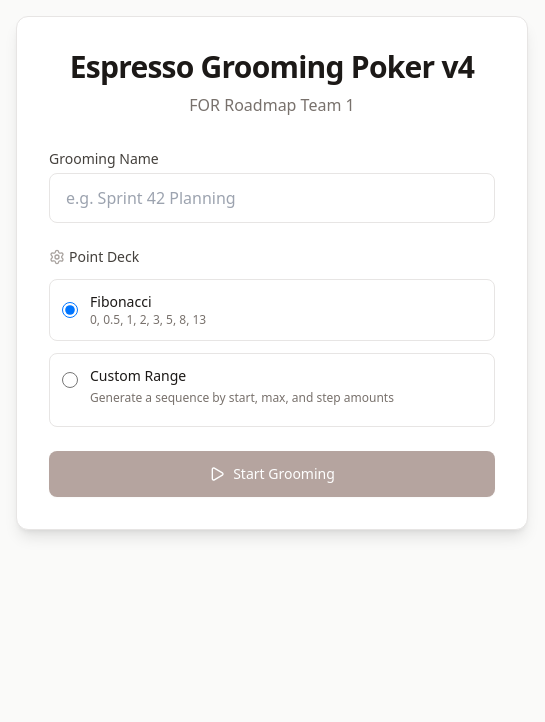
Test: CreateGrooming Component › shows preview truncation when items > 10
Switch to Custom Range
Click the radio button showing "CUSTOM".
click(70, 380)  # box [62, 372, 78, 388]
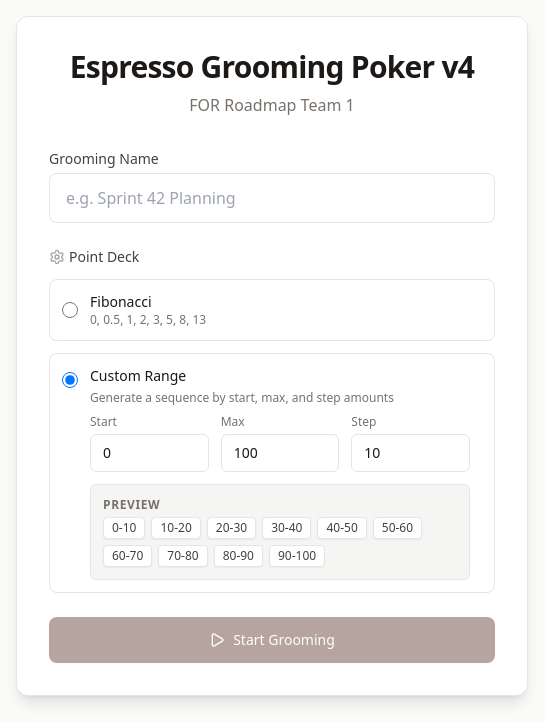
Make many items
Replace the text in the number field labelled "Start" with "1" at (149, 453), box [90, 434, 209, 472]
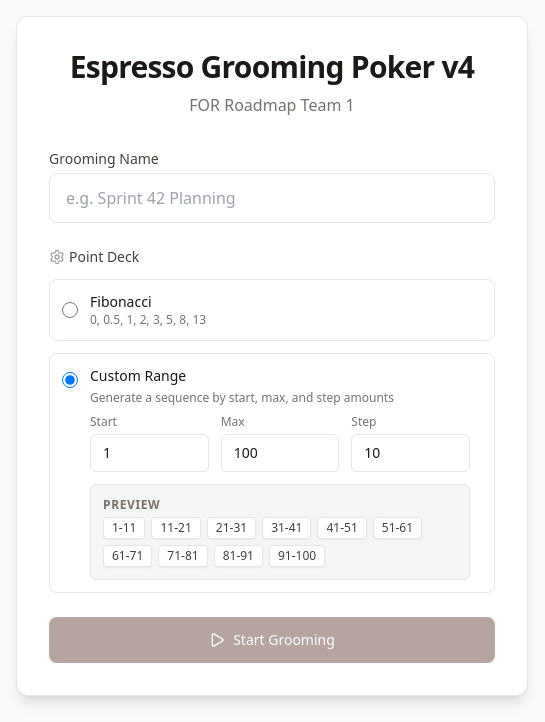
Replace the text in the number field labelled "Max" with "20" at (280, 453), box [221, 434, 339, 472]
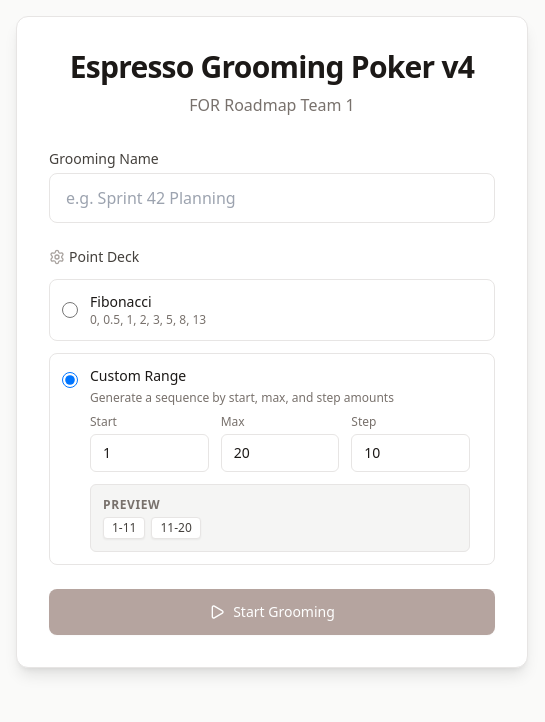
Replace the text in the number field labelled "Step" with "1" at (411, 453), box [351, 434, 470, 472]
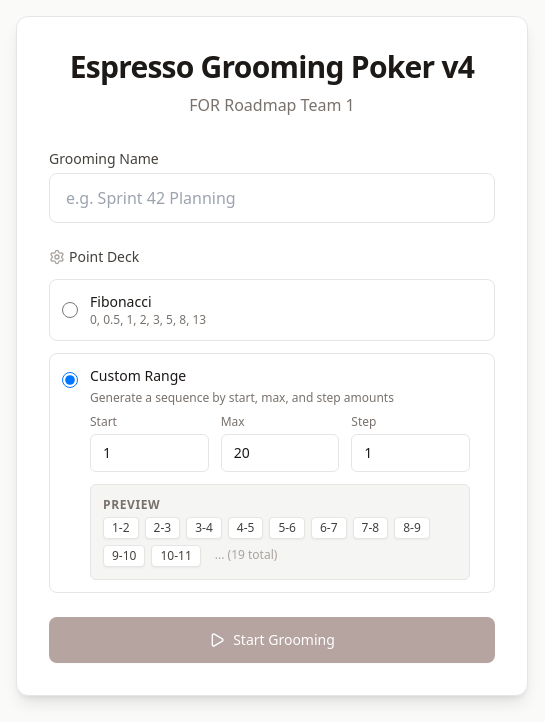
Result: the text "... (19 total)" is shown at [215, 546, 277, 563]
